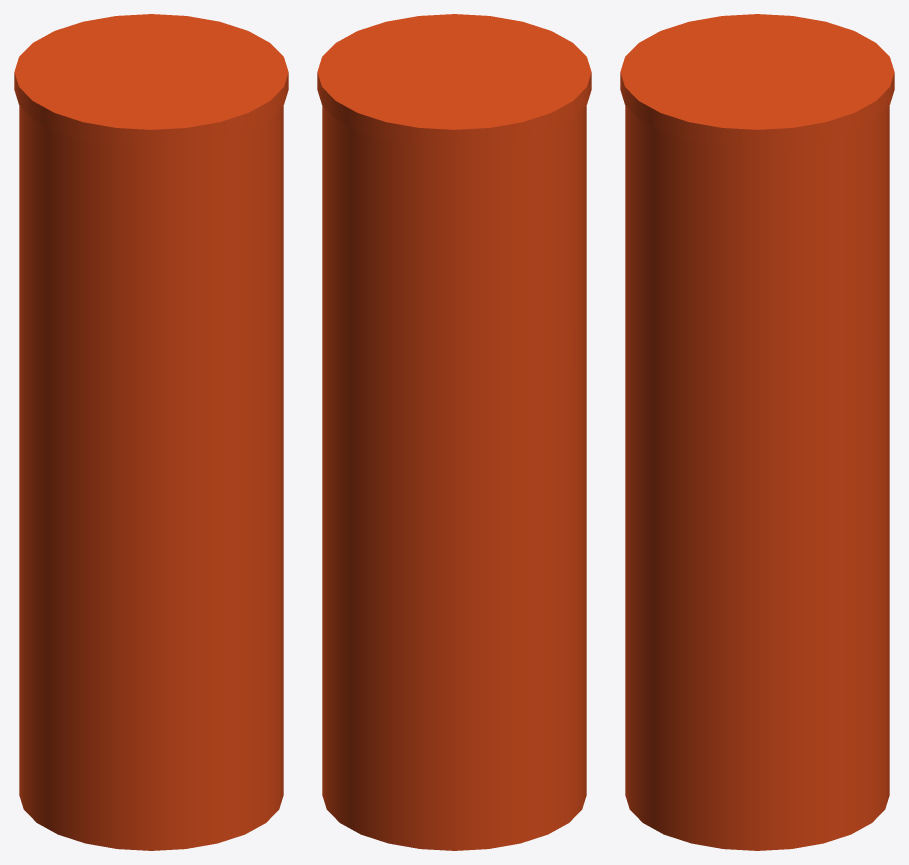
File: TuboPatatineClassica.fbx
3 views of the same model, side by side, from view 1: azimuth 30°, elevation 25°; view 2: azimuth 150°, elevation 25°; view 3: azimuth 270°, elevation 25° (orthographic).
Visible parts, largest first — view 1: TubettoPringles; view 2: TubettoPringles; view 3: TubettoPringles.
Part boxes in pixels (x1,y1,x2,y2): TubettoPringles: [14, 14, 288, 850]; TubettoPringles: [317, 14, 591, 850]; TubettoPringles: [620, 14, 894, 850].
Size of the model in its own units: 163 by 474 by 163.
